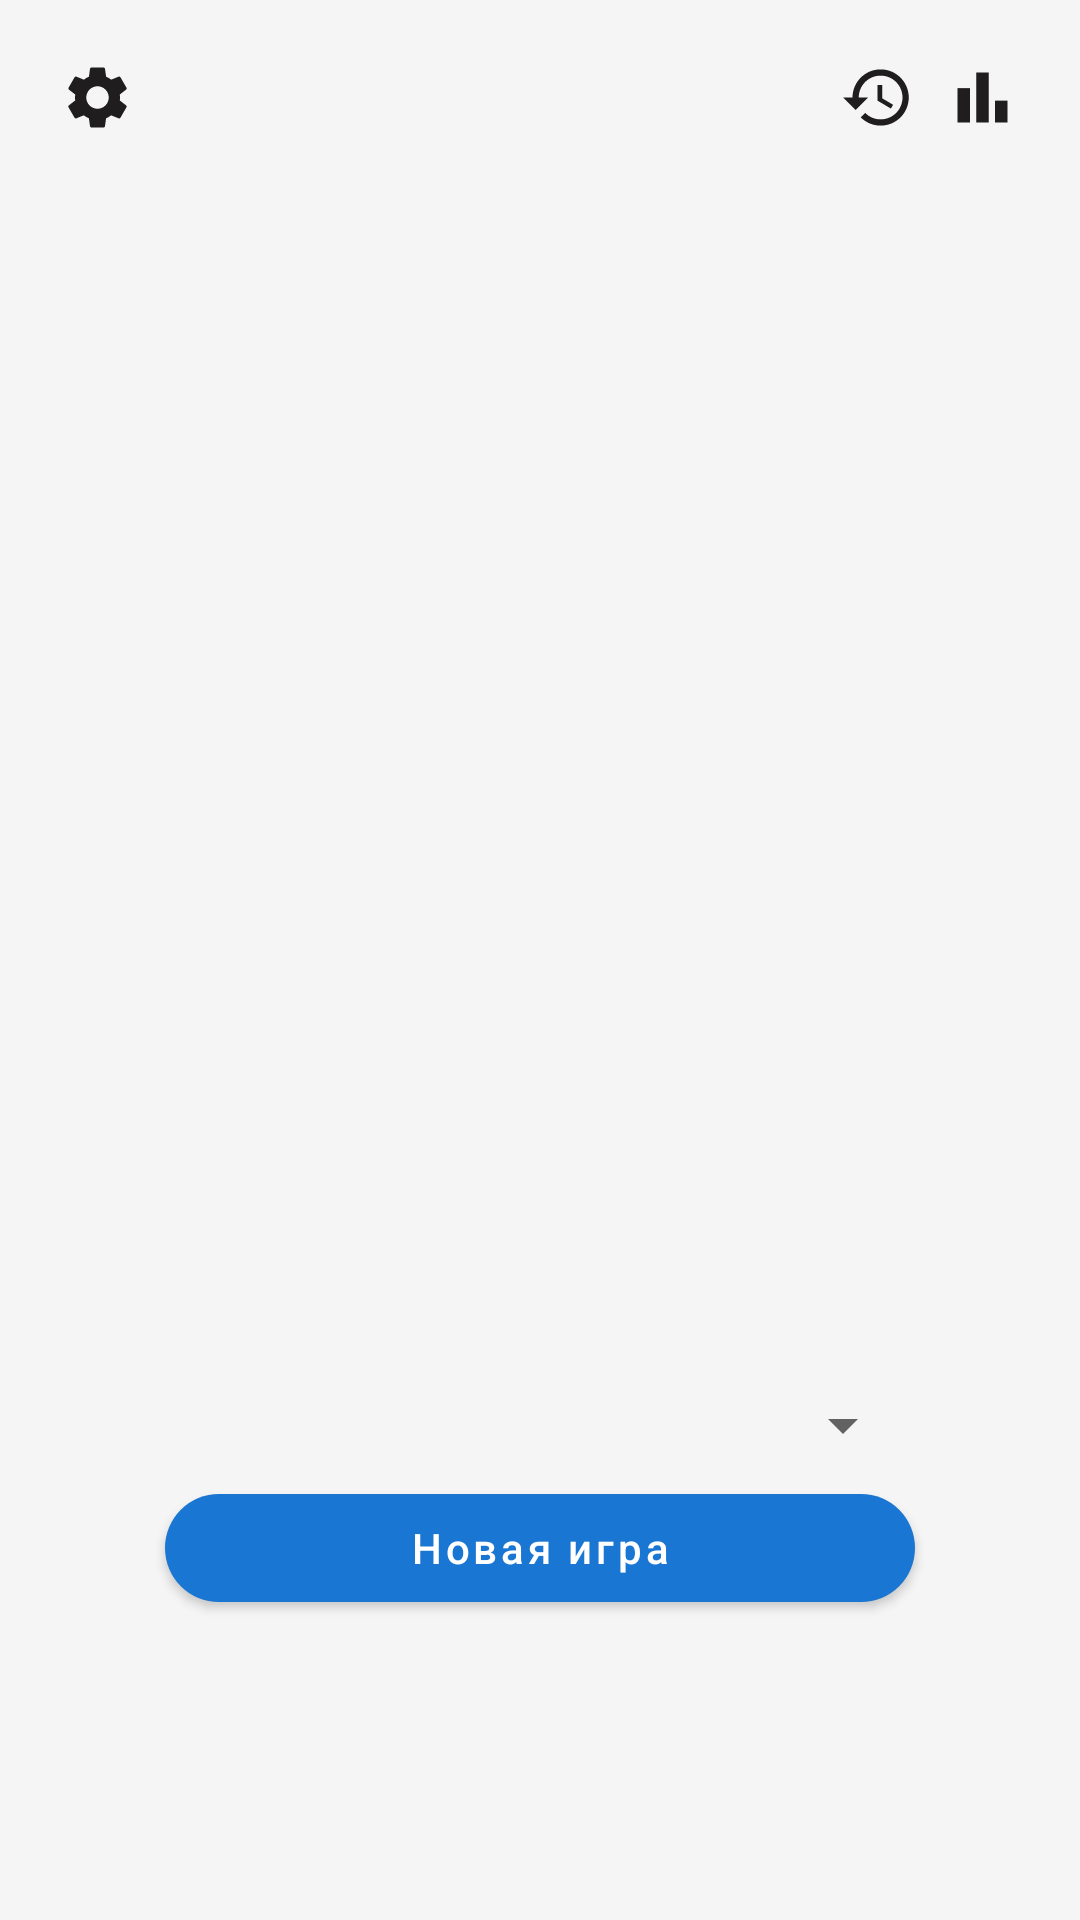

Icons on this 1080px×1920px Android screen, each with the point to tap as point (x, y):
history: point (876, 97)
settings: point (97, 97)
statistic: point (982, 97)
